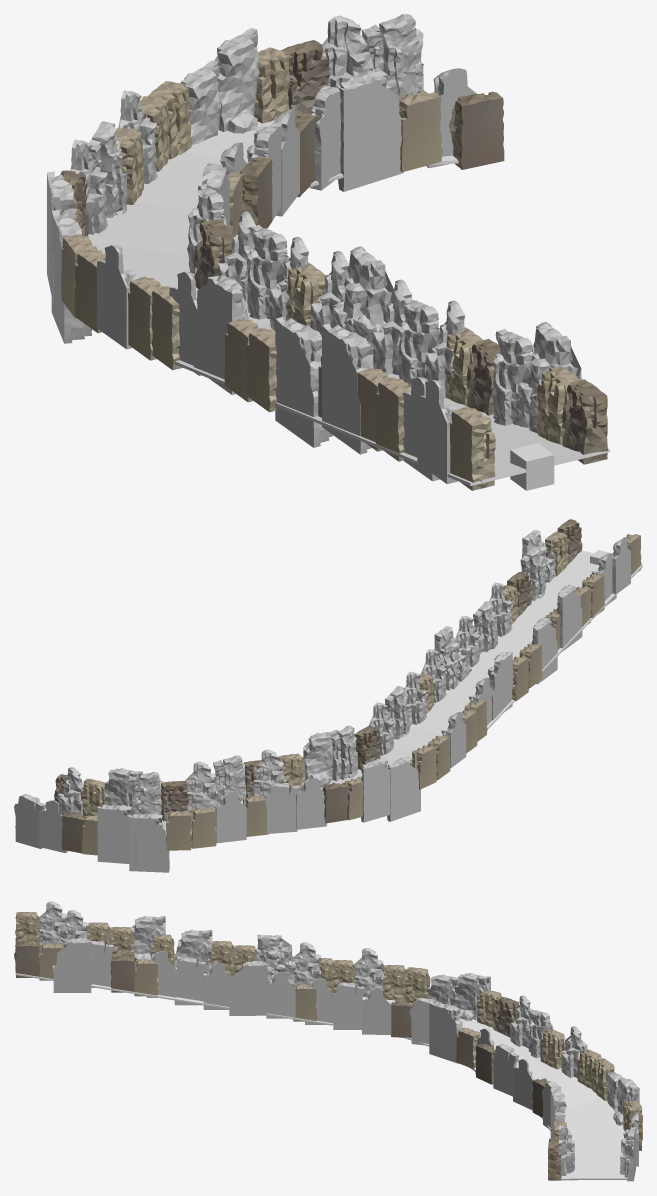
File: AAAALevel1_NODE.fbx
3 renders of one model, top to bottom at view 1: azimuth 30°, elevation 25°; view 2: azimuth 150°, elevation 25°; view 3: azimuth 270°, elevation 25°, orthographic. The views are drawn at different scales.
Visible parts, largest first — view 1: skalka pionowa 2_SOURCE.006, Ground.100, skalka pionowa 2.184, skalka pionowa 2.182, Ground.102, skalka pionowa 1.098, skalka pionowa 1.097, skalka pionowa 2_SOURCE.007, TALL 2.210_SOURCE.004, skalka pionowa XL 1.192_SOURCE.005, Ground.098, TALL 1.577 (+51 smaller); view 2: Ground.098, Ground.099, skalka pionowa 2_SOURCE.008, skalka pionowa 2_SOURCE.007, skalka pionowa 2_SOURCE.001, skalka pionowa 2_SOURCE.002, skalka pionowa XL 1.192_SOURCE.002, skalka pionowa 2_SOURCE, skalka pionowa 1.097, skalka pionowa XL 2.353_SOURCE.006, skalka pionowa XL 2.353_SOURCE.001, skalka pionowa 2.182 (+45 smaller); view 3: Ground.102, skalka pionowa 1.095, skalka pionowa 1.097, skalka pionowa 2_SOURCE, skalka pionowa XL 1.192_SOURCE.001, skalka pionowa 1.098, skalka pionowa XL 1.189, skalka pionowa XL 2.353_SOURCE, skalka pionowa 2_SOURCE.001, skalka pionowa XL 2.348, skalka pionowa 2.184, skalka pionowa XL 2.349 (+46 smaller).
Part boxes in pixels (x1,y1,x2,y2): skalka pionowa 2_SOURCE.006: [338, 70, 403, 191]; Ground.100: [88, 204, 270, 326]; skalka pionowa 2.184: [275, 317, 332, 447]; skalka pionowa 2.182: [322, 323, 373, 454]; Ground.102: [133, 117, 458, 210]; skalka pionowa 1.098: [193, 275, 248, 394]; skalka pionowa 1.097: [331, 246, 393, 366]; skalka pionowa 2_SOURCE.007: [214, 28, 259, 133]; TALL 2.210_SOURCE.004: [449, 91, 504, 169]; skalka pionowa XL 1.192_SOURCE.005: [361, 14, 423, 97]; Ground.098: [311, 398, 609, 485]; TALL 1.577: [450, 406, 495, 490]; Ground.098: [497, 550, 642, 654]; Ground.099: [410, 639, 558, 733]; skalka pionowa 2_SOURCE.008: [129, 813, 169, 872]; skalka pionowa 2_SOURCE.007: [97, 805, 137, 864]; skalka pionowa 2_SOURCE.001: [361, 758, 396, 822]; skalka pionowa 2_SOURCE.002: [387, 757, 420, 821]; skalka pionowa XL 1.192_SOURCE.002: [264, 783, 299, 833]; skalka pionowa 2_SOURCE: [303, 729, 338, 788]; skalka pionowa 1.097: [434, 626, 471, 690]; skalka pionowa XL 2.353_SOURCE.006: [215, 791, 246, 843]; skalka pionowa XL 2.353_SOURCE.001: [296, 778, 326, 829]; skalka pionowa 2.182: [556, 584, 582, 651]; Ground.102: [528, 1062, 627, 1180]; skalka pionowa 1.095: [52, 938, 92, 992]; skalka pionowa 1.097: [228, 961, 268, 1015]; skalka pionowa 2_SOURCE: [429, 1001, 462, 1063]; skalka pionowa XL 1.192_SOURCE.001: [331, 982, 364, 1029]; skalka pionowa 1.098: [256, 934, 296, 986]; skalka pionowa XL 1.189: [174, 958, 205, 1005]; skalka pionowa XL 2.353_SOURCE: [362, 987, 391, 1034]; skalka pionowa 2_SOURCE.001: [455, 973, 490, 1020]; skalka pionowa XL 2.348: [266, 971, 295, 1018]; skalka pionowa 2.184: [174, 929, 212, 973]; skalka pionowa XL 2.349: [203, 963, 232, 1009].
Size of the model in its own units: 4119 by 1991 by 7806.
